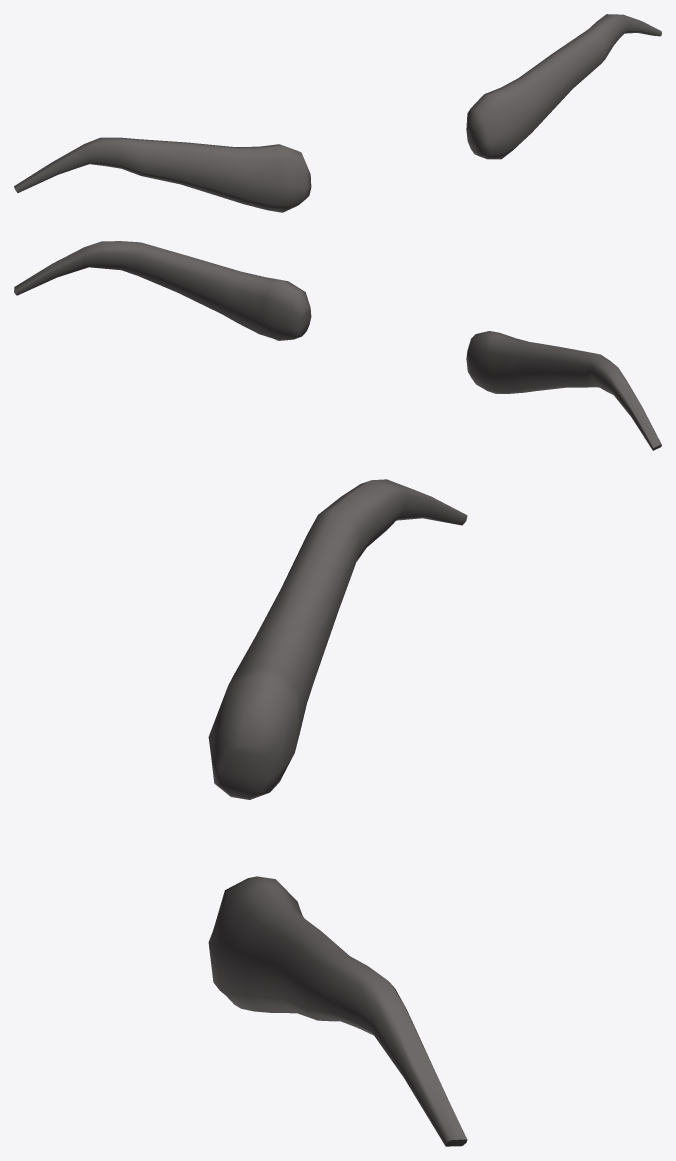
The model's file is Eyebrows_12_04.fbx.
3 renders of one model, top to bottom at view 1: azimuth 30°, elevation 25°; view 2: azimuth 150°, elevation 25°; view 3: azimuth 270°, elevation 25°, orthographic. The views are drawn at different scales.
Visible parts, largest first — view 1: Eyebrows_12_04; view 2: Eyebrows_12_04; view 3: Eyebrows_12_04.
Boxes of the visible parts, x1,y1,x2,y2 form: Eyebrows_12_04: [14, 14, 661, 212]; Eyebrows_12_04: [14, 241, 661, 450]; Eyebrows_12_04: [208, 479, 467, 1146].
Size of the model in its own units: 19.63 by 2.48 by 3.4.
